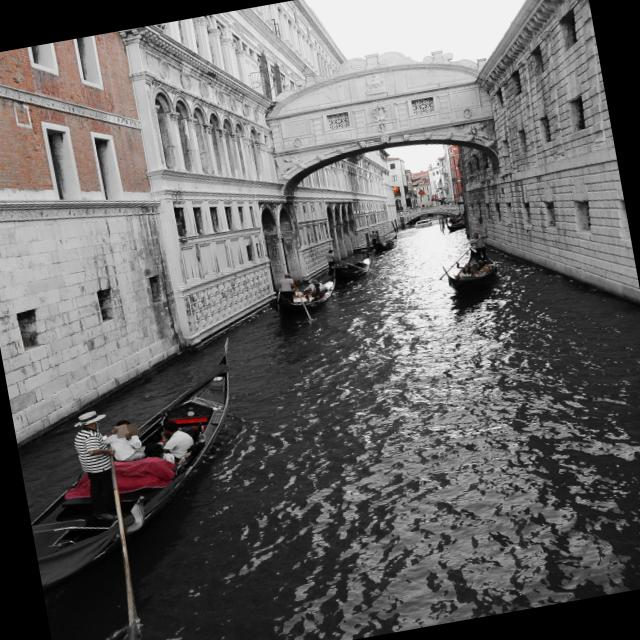boat: (2, 314, 290, 628)
